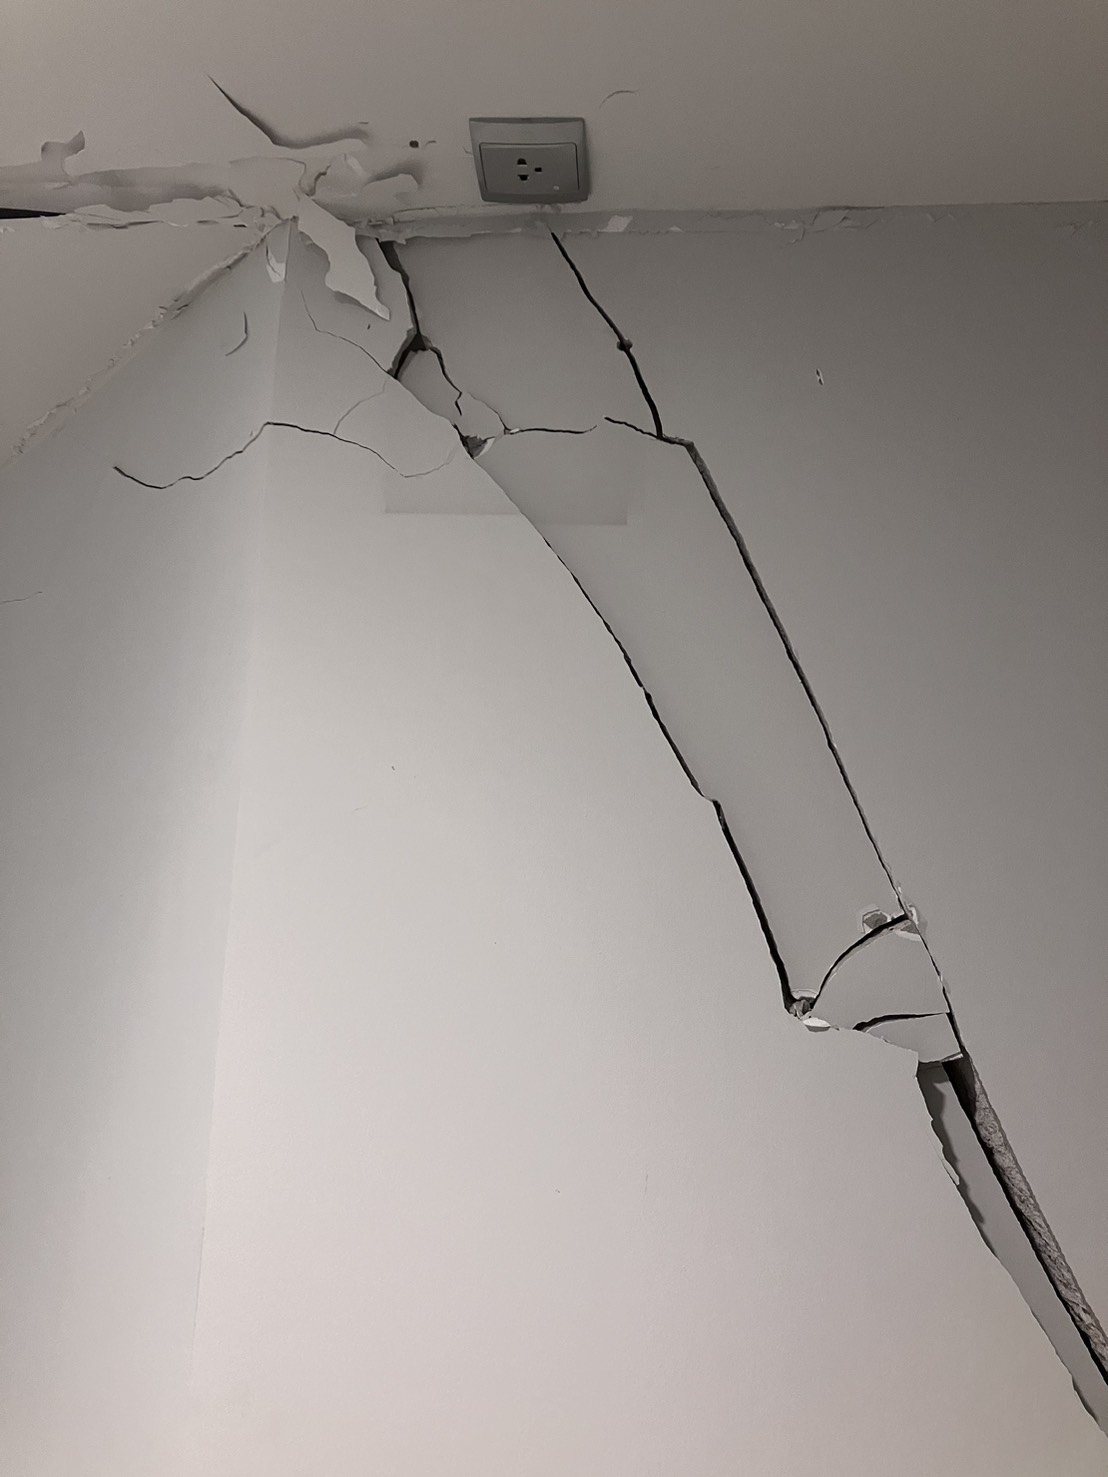Medium: (329, 233, 1071, 1311)
